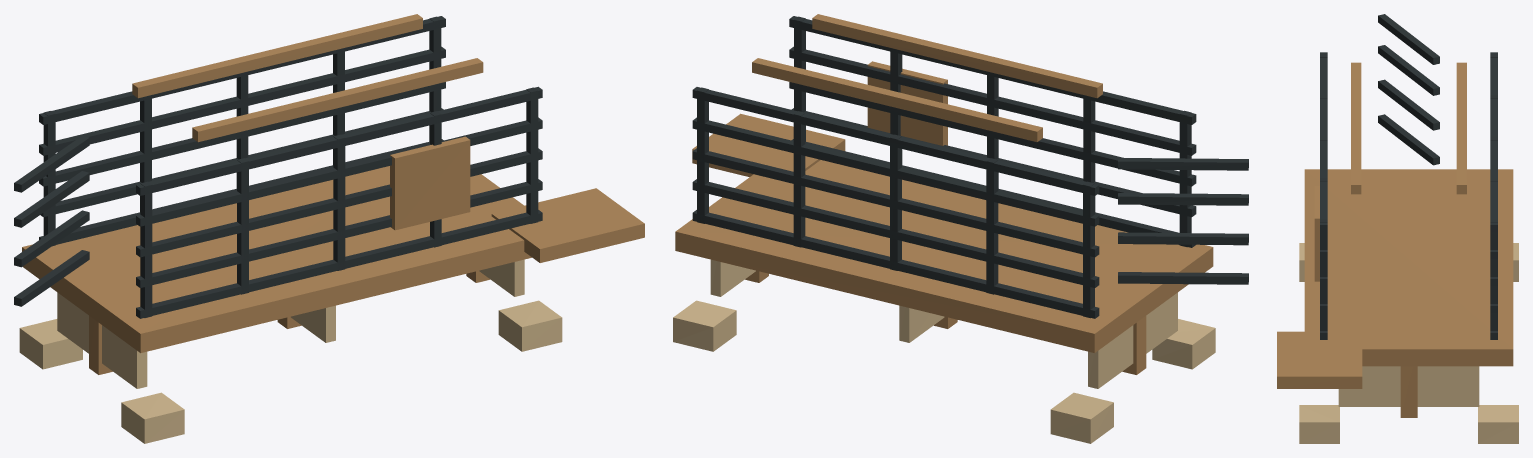
File: Fish-Trap.glb
3 renders of one model, left to right at view 1: azimuth 30°, elevation 25°; view 2: azimuth 150°, elevation 25°; view 3: azimuth 270°, elevation 25°, orthographic. The views are drawn at different scales.
Parts seen in each view (by area): view 1: fish-trap-static-fish-trap-warm-timber-service-frame, fish-trap-static-fish-trap-charcoal-cage-slats, fish-trap-static-fish-trap-pale-stone-feet, fish-trap-static-fish-trap-muted-teal-inspection-hatch, fish-trap-static-fish-trap-cream-cross-braces; view 2: fish-trap-static-fish-trap-charcoal-cage-slats, fish-trap-static-fish-trap-warm-timber-service-frame, fish-trap-static-fish-trap-pale-stone-feet, fish-trap-static-fish-trap-cream-cross-braces, fish-trap-static-fish-trap-muted-teal-inspection-hatch; view 3: fish-trap-static-fish-trap-warm-timber-service-frame, fish-trap-static-fish-trap-charcoal-cage-slats, fish-trap-static-fish-trap-cream-cross-braces, fish-trap-static-fish-trap-pale-stone-feet, fish-trap-static-fish-trap-muted-teal-inspection-hatch.
Boxes of the visible parts, x1,y1,x2,y2 form: fish-trap-static-fish-trap-warm-timber-service-frame: [22, 14, 644, 374]; fish-trap-static-fish-trap-charcoal-cage-slats: [14, 16, 542, 318]; fish-trap-static-fish-trap-pale-stone-feet: [19, 300, 562, 443]; fish-trap-static-fish-trap-muted-teal-inspection-hatch: [390, 136, 470, 230]; fish-trap-static-fish-trap-cream-cross-braces: [57, 259, 524, 388]; fish-trap-static-fish-trap-charcoal-cage-slats: [692, 16, 1248, 318]; fish-trap-static-fish-trap-warm-timber-service-frame: [675, 14, 1213, 374]; fish-trap-static-fish-trap-pale-stone-feet: [673, 300, 1215, 443]; fish-trap-static-fish-trap-cream-cross-braces: [710, 259, 1177, 388]; fish-trap-static-fish-trap-muted-teal-inspection-hatch: [867, 61, 947, 145]; fish-trap-static-fish-trap-warm-timber-service-frame: [1277, 62, 1513, 417]; fish-trap-static-fish-trap-charcoal-cage-slats: [1320, 14, 1497, 339]; fish-trap-static-fish-trap-cream-cross-braces: [1338, 366, 1479, 406]; fish-trap-static-fish-trap-pale-stone-feet: [1299, 243, 1518, 443]; fish-trap-static-fish-trap-muted-teal-inspection-hatch: [1314, 186, 1319, 281].
Size of the model in its own units: 6.79 by 3.08 by 2.84.
